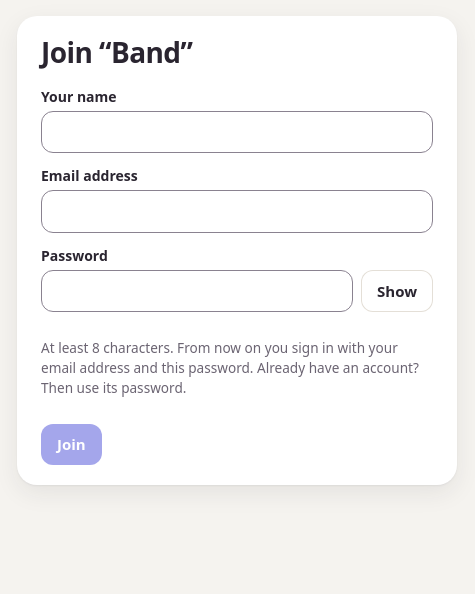
Test: a known address with another password is told so
This screenshot has width=475, height=594.
Type "Ben" into the field labelled "Your name".
click(237, 132); type("Ben")  # box [41,111,433,153]
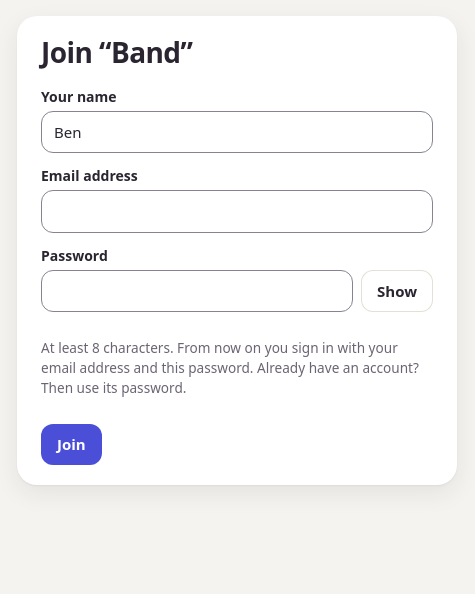
Type "ben@test.de" into the field labelled "Email address".
click(237, 211); type("ben@test.de")  # box [41,190,433,233]
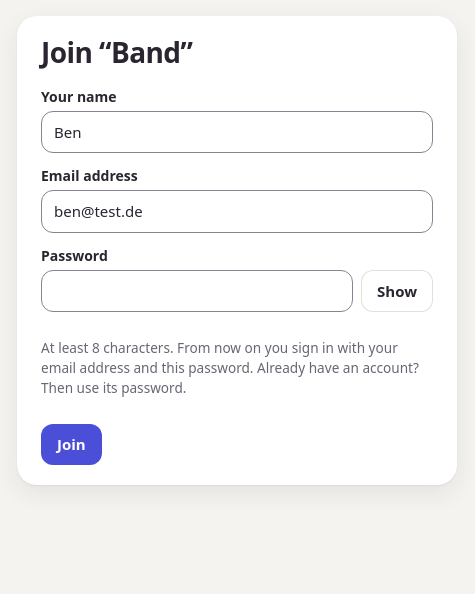
Type "geheim123" into the password field labelled "Password".
click(197, 291); type("geheim123")  # box [41,270,353,312]
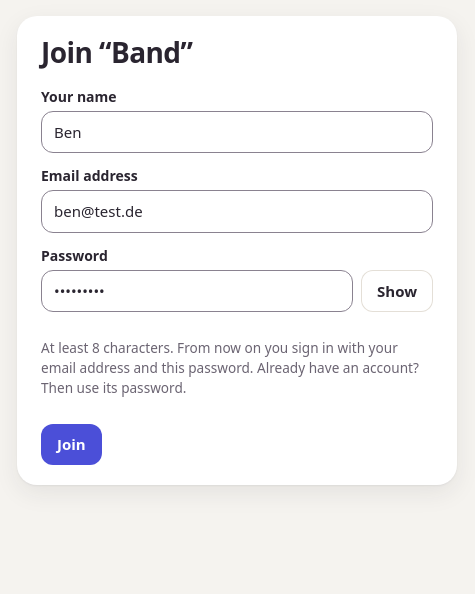
Click the button "Join".
click(71, 445)  # box [41,424,102,465]
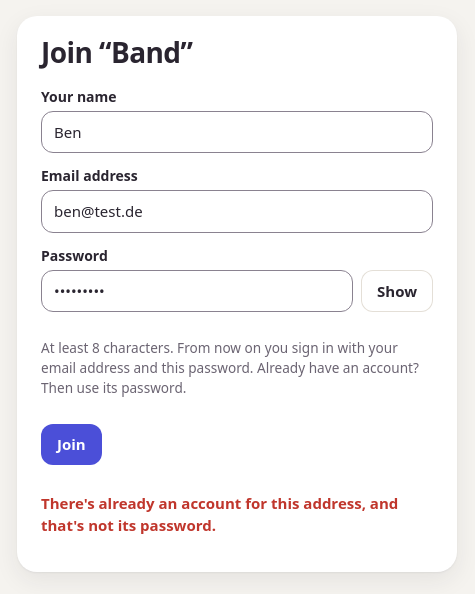
Check: the message shows "that's not its password", box [41,493,398,536]
